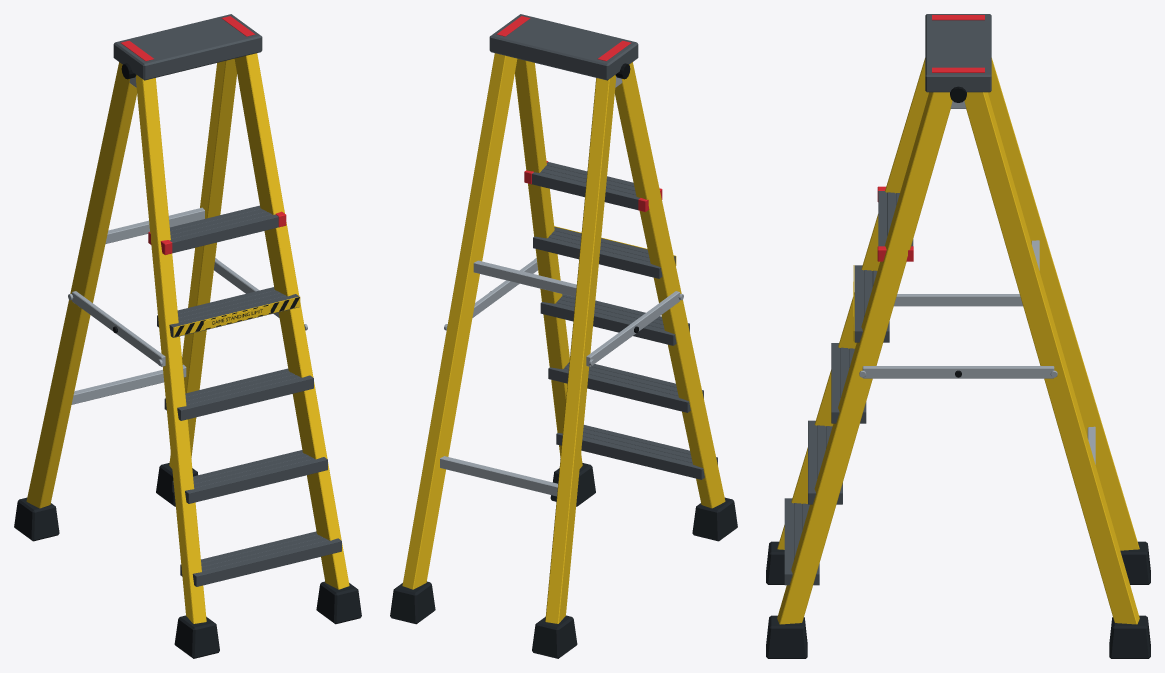
The model's file is ladder.fbx.
The picture shows the model from 3 angles, left to right: view 1: azimuth 30°, elevation 25°; view 2: azimuth 150°, elevation 25°; view 3: azimuth 270°, elevation 25°; orthographic projection. The views are drawn at different scales.
Parts seen in each view (by area): view 1: Ladder_Rail_Front_R, Ladder_Rail_Front_L, Ladder_Rail_Rear_L, Ladder_Rail_Rear_R, Ladder_TopCap, Ladder_Step_01, Ladder_Step_02, Ladder_Step_03, Ladder_Step_05, Ladder_Step_04, Ladder_Foot_Front_L, Ladder_Foot_Front_R (+8 smaller); view 2: Ladder_Rail_Rear_R, Ladder_Rail_Rear_L, Ladder_Rail_Front_L, Ladder_Rail_Front_R, Ladder_TopCap, Ladder_Step_01, Ladder_Step_02, Ladder_Step_04, Ladder_Step_03, Ladder_Step_05, Ladder_RearBrace_01, Ladder_Foot_Rear_L (+6 smaller); view 3: Ladder_Rail_Rear_R, Ladder_Rail_Front_R, Ladder_Rail_Rear_L, Ladder_TopCap, Ladder_Rail_Front_L, Ladder_Spreader_R, Ladder_Spreader_L, Ladder_Foot_Front_R, Ladder_Foot_Rear_R, Ladder_Step_01, Ladder_Step_02, Ladder_Step_03 (+4 smaller).
Boxes of the visible parts, x1,y1,x2,y2 form: Ladder_Rail_Front_R: (234,53,349,589); Ladder_Rail_Front_L: (136,75,206,623); Ladder_Rail_Rear_L: (26,62,136,508); Ladder_Rail_Rear_R: (169,58,236,468); Ladder_TopCap: (113,14,262,80); Ladder_Step_01: (180,531,341,586); Ladder_Step_02: (172,450,327,503); Ladder_Step_03: (164,368,313,420); Ladder_Step_05: (170,205,278,253); Ladder_Step_04: (157,287,299,337); Ladder_Foot_Front_L: (174,615,219,658); Ladder_Foot_Front_R: (316,581,361,624); Ladder_Rail_Rear_R: (402,53,517,589); Ladder_Rail_Rear_L: (545,75,615,623); Ladder_Rail_Front_L: (615,62,725,508); Ladder_Rail_Front_R: (515,58,582,468); Ladder_TopCap: (489,14,638,80); Ladder_Step_01: (556,425,717,479); Ladder_Step_02: (548,362,703,412); Ladder_Step_04: (533,227,675,278); Ladder_Step_03: (540,294,689,345); Ladder_Step_05: (532,162,639,210); Ladder_RearBrace_01: (440,456,557,496); Ladder_Foot_Rear_L: (532,615,577,658); Ladder_Rail_Rear_R: (964,92,1139,624); Ladder_Rail_Front_R: (777,92,952,624); Ladder_Rail_Rear_L: (988,58,1139,550); Ladder_TopCap: (925,14,991,92); Ladder_Rail_Front_L: (777,58,928,549); Ladder_Spreader_R: (862,366,1054,378); Ladder_Spreader_L: (894,294,1022,306); Ladder_Foot_Front_R: (766,615,807,658); Ladder_Foot_Rear_R: (1109,615,1150,658); Ladder_Step_01: (784,498,819,585); Ladder_Step_02: (808,420,842,504); Ladder_Step_03: (831,343,866,423).
Size of the model in its own units: 0.5989 by 1.8 by 1.1.
